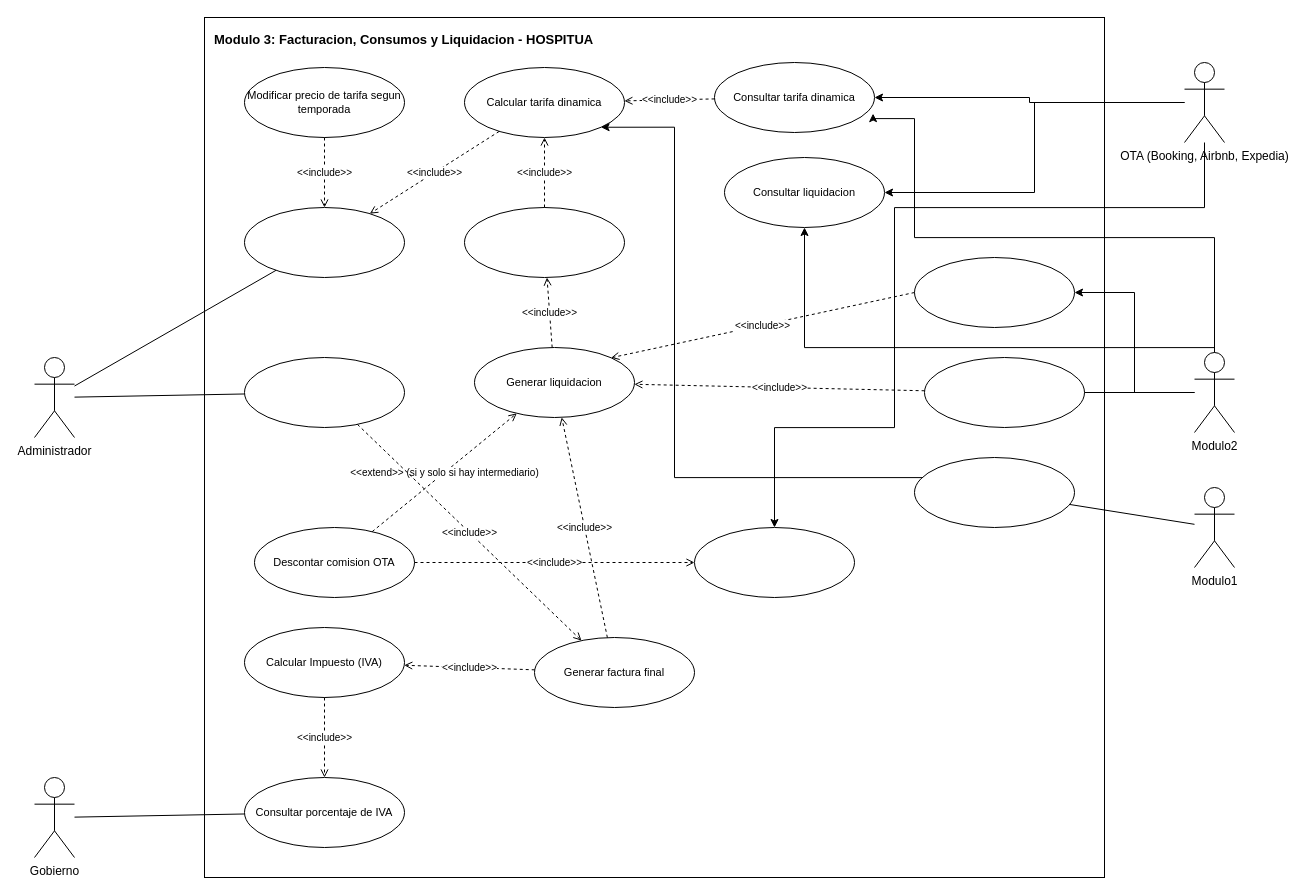
Some shapes in this 1306 by 896 pixel diagram are drawn without their labels. Here are the shapes that lost their labels. From the top down, the centre of each, then its label:
At point 324,242: "Revisar temporada del ano".
At point 544,242: "Aplicar tarifa dinamica".
At point 994,292: "Registrar Check-in".
At point 324,392: "Gestionar facturacion".
At point 1004,392: "Registrar Check-out".
At point 994,492: "Consultar tarifa base".
At point 774,562: "Consultar porcentaje de comision OTA".
